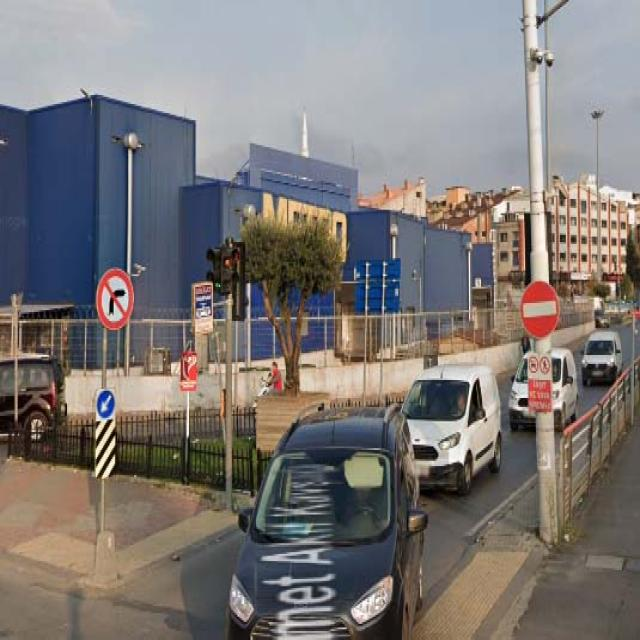girisyok: (522, 280, 558, 337)
sagadonulmez: (97, 267, 134, 328)
